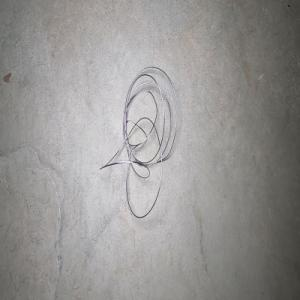Wire: (99, 66, 177, 218)
